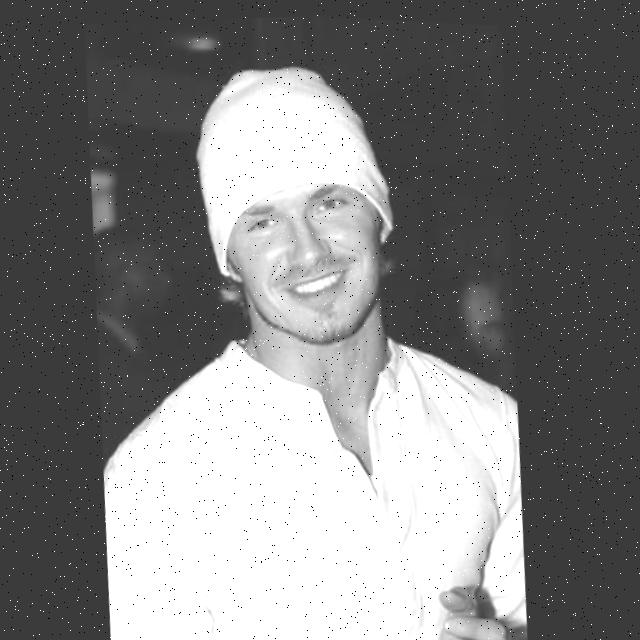face: (197, 118, 414, 361)
